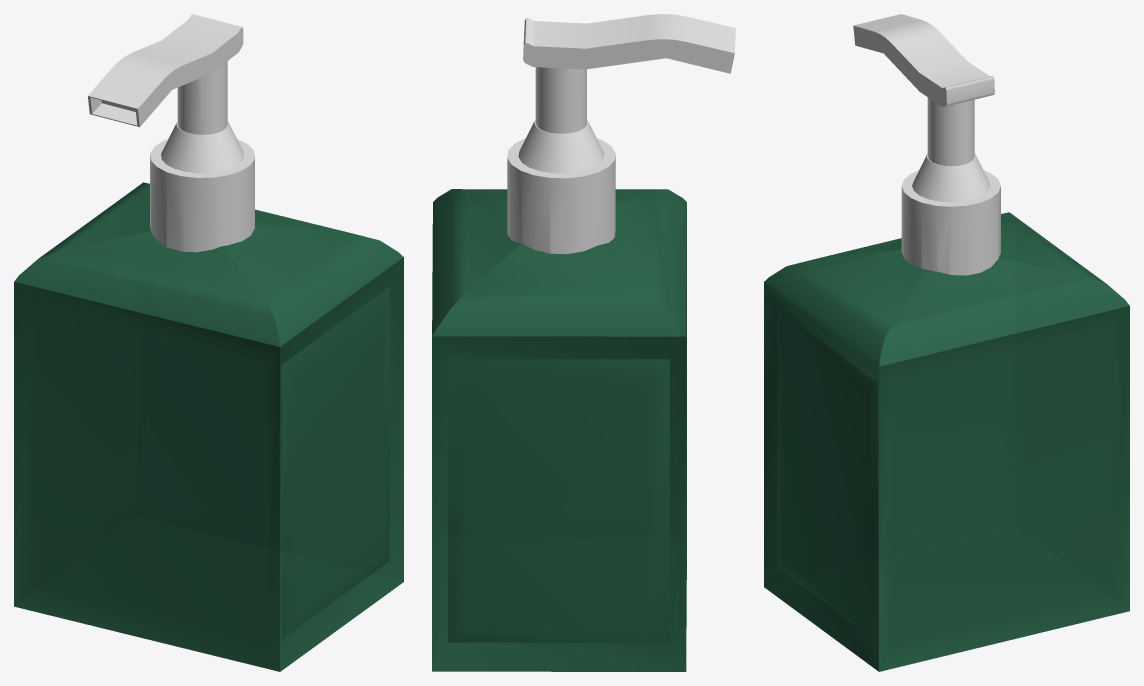
Rendered from HandSan.fbx.
3 renders of one model, left to right at view 1: azimuth 30°, elevation 25°; view 2: azimuth 150°, elevation 25°; view 3: azimuth 270°, elevation 25°, orthographic. The views are drawn at different scales.
Parts seen in each view (by area): view 1: pCube8, pCylinder3; view 2: pCube8, pCylinder3; view 3: pCube8, pCylinder3.
Boxes of the visible parts, x1,y1,x2,y2 form: pCube8: [14, 121, 403, 671]; pCylinder3: [88, 14, 243, 134]; pCube8: [432, 120, 686, 671]; pCylinder3: [523, 14, 735, 133]; pCube8: [764, 153, 1129, 671]; pCylinder3: [853, 14, 994, 166].
Bounding box in the file's own units: 0.2979 × 0.5064 × 0.3164.
